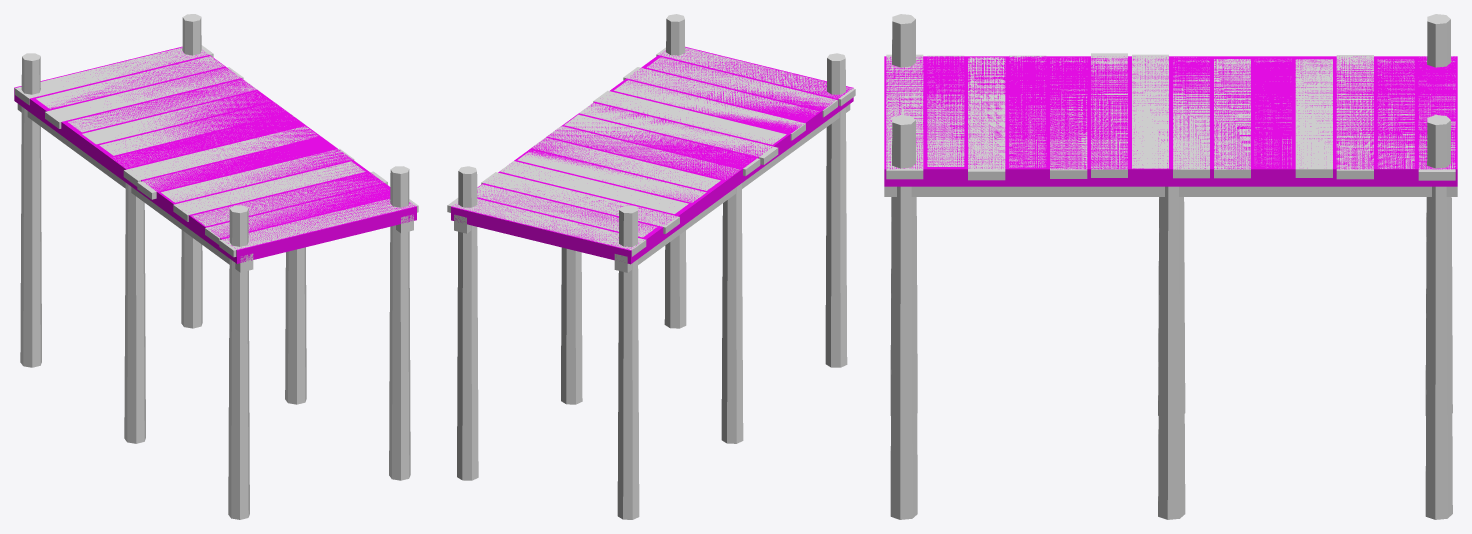
Rendered from dock.glb.
The picture shows the model from 3 angles, left to right: view 1: azimuth 30°, elevation 25°; view 2: azimuth 150°, elevation 25°; view 3: azimuth 270°, elevation 25°; orthographic projection. The views are drawn at different scales.
Visible parts, largest first — view 1: dock, dock_hull; view 2: dock, dock_hull; view 3: dock, dock_hull.
Part boxes in pixels (x1=…): dock: x1=15, y1=14, x2=418, y2=519; dock_hull: x1=14, y1=46, x2=416, y2=263; dock: x1=447, y1=14, x2=855, y2=519; dock_hull: x1=451, y1=46, x2=853, y2=264; dock: x1=884, y1=14, x2=1457, y2=519; dock_hull: x1=884, y1=56, x2=1457, y2=186.
Bounding box in the file's own units: 2.94 × 4.55 × 6.
